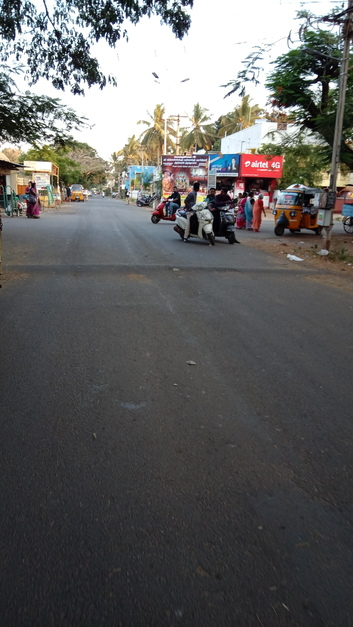bump: (1, 260, 345, 281)
